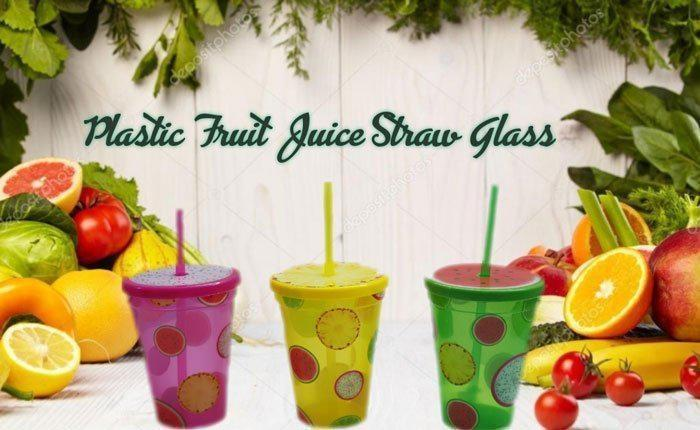cup-disposable: (421, 261, 544, 429), (268, 259, 389, 428), (121, 262, 242, 428)
